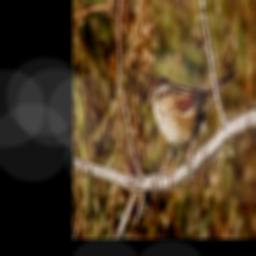Sparrow: (148, 72, 235, 187)
